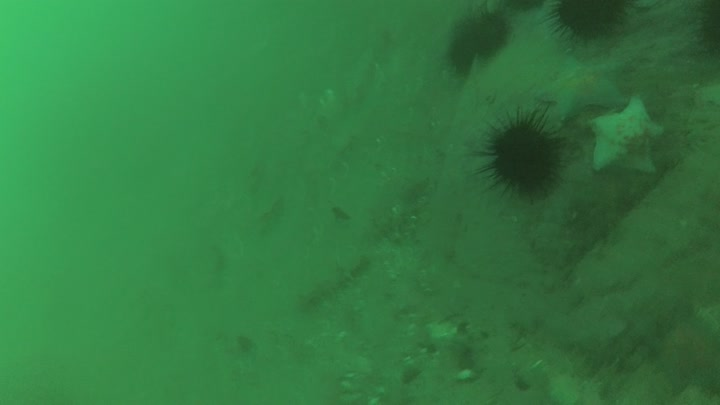holothurian: (465, 106, 563, 210), (540, 1, 636, 48), (298, 257, 367, 314), (456, 1, 511, 62), (443, 34, 481, 81), (692, 1, 720, 56), (513, 1, 543, 15)
starfish: (644, 311, 720, 399), (590, 94, 664, 175), (536, 56, 626, 120)
